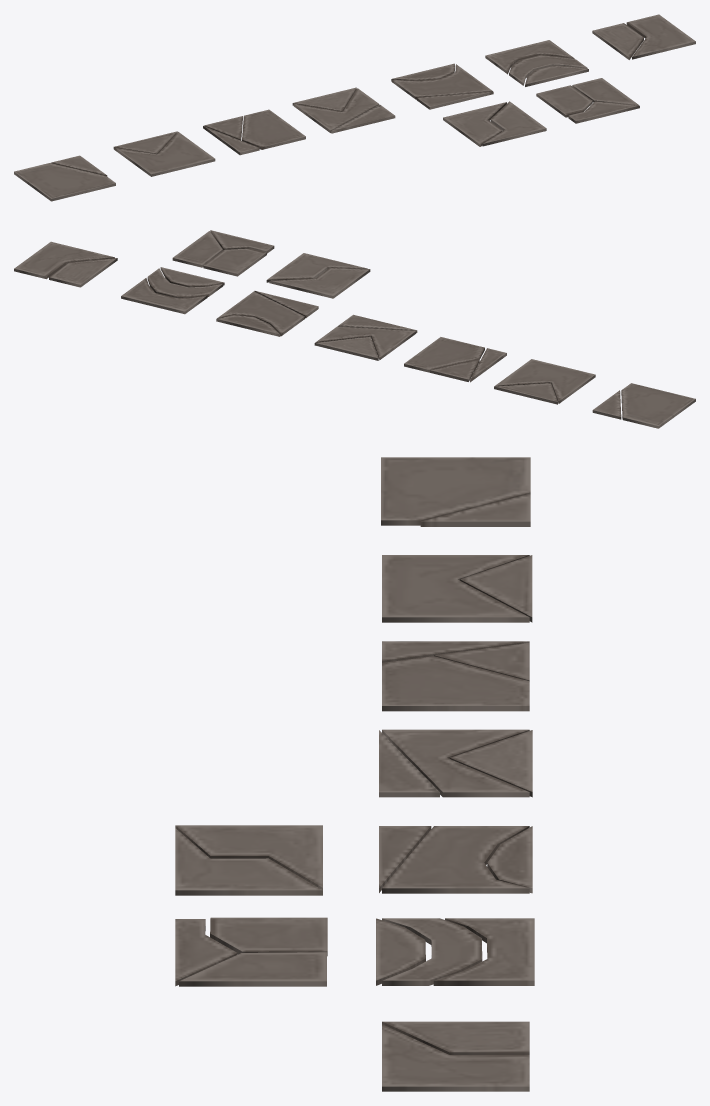
The model's file is tile_set.fbx.
The picture shows the model from 3 angles, top to bottom: view 1: azimuth 30°, elevation 25°; view 2: azimuth 150°, elevation 25°; view 3: azimuth 270°, elevation 25°; orthographic projection. The views are drawn at different scales.
Parts seen in each view (by area): view 1: tile-set.001, tile-set.002, tile-set.007, tile-set.003, tile-set.005, tile-set.010, tile-set.004, tile-set.010-1, tile-set.06-1, tile-set.09-2, tile-set.07-1, tile-set.006 (+11 smaller); view 2: tile-set.001, tile-set.002, tile-set.007, tile-set.003, tile-set.005, tile-set.010, tile-set.004, tile-set.010-1, tile-set.06-1, tile-set.09-2, tile-set.07-1, tile-set.009 (+11 smaller); view 3: tile-set.001, tile-set.002, tile-set.003, tile-set.005, tile-set.007, tile-set.004, tile-set.010, tile-set.010-1, tile-set.06-1, tile-set.009, tile-set.09-2, tile-set.07-1 (+11 smaller).
Boxes of the visible parts, x1,y1,x2,y2 form: tile-set.001: (14, 163, 115, 201); tile-set.002: (114, 132, 215, 176); tile-set.007: (626, 14, 695, 59); tile-set.003: (242, 109, 305, 149); tile-set.005: (392, 64, 492, 99); tile-set.010: (443, 102, 506, 146); tile-set.004: (293, 88, 378, 132); tile-set.010-1: (482, 101, 546, 146); tile-set.06-1: (485, 40, 574, 74); tile-set.09-2: (536, 85, 592, 117); tile-set.07-1: (592, 23, 643, 59); tile-set.006: (509, 55, 587, 85); tile-set.001: (621, 383, 695, 428); tile-set.002: (495, 359, 595, 403); tile-set.007: (14, 241, 114, 279); tile-set.003: (404, 337, 484, 372); tile-set.005: (217, 291, 304, 336); tile-set.010: (269, 268, 370, 298); tile-set.004: (315, 326, 416, 360); tile-set.010-1: (266, 253, 367, 282); tile-set.06-1: (121, 278, 207, 314); tile-set.09-2: (203, 248, 266, 276); tile-set.07-1: (49, 258, 117, 287); tile-set.009: (172, 231, 222, 267); tile-set.001: (381, 457, 530, 525); tile-set.002: (382, 555, 529, 622); tile-set.003: (382, 656, 529, 711); tile-set.005: (382, 826, 529, 893); tile-set.007: (382, 1024, 529, 1091); tile-set.004: (382, 729, 529, 797); tile-set.010: (175, 825, 322, 889); tile-set.010-1: (175, 828, 322, 895); tile-set.06-1: (433, 918, 534, 985); tile-set.009: (179, 952, 326, 986); tile-set.09-2: (210, 917, 327, 956); tile-set.07-1: (382, 1021, 529, 1054).
Size of the model in its own units: 1977 by 7.69 by 478.
